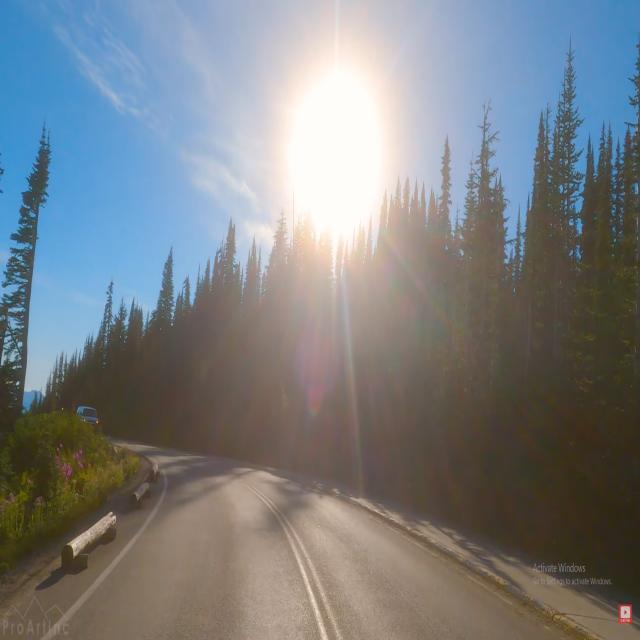sun: (254, 35, 408, 252)
